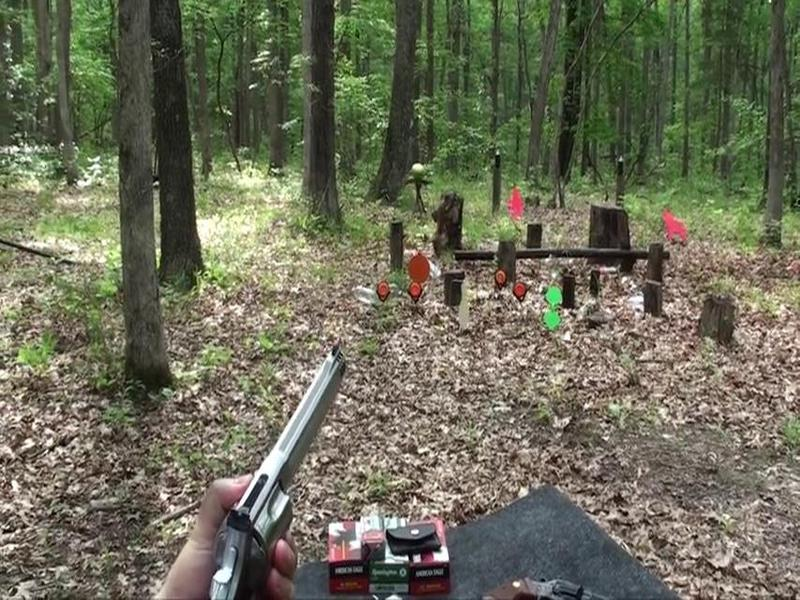Revolver: (180, 336, 379, 600)
